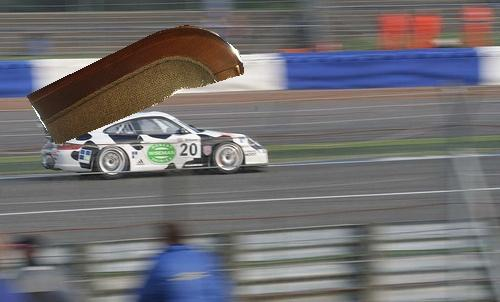tampered: (28, 26, 244, 144)
